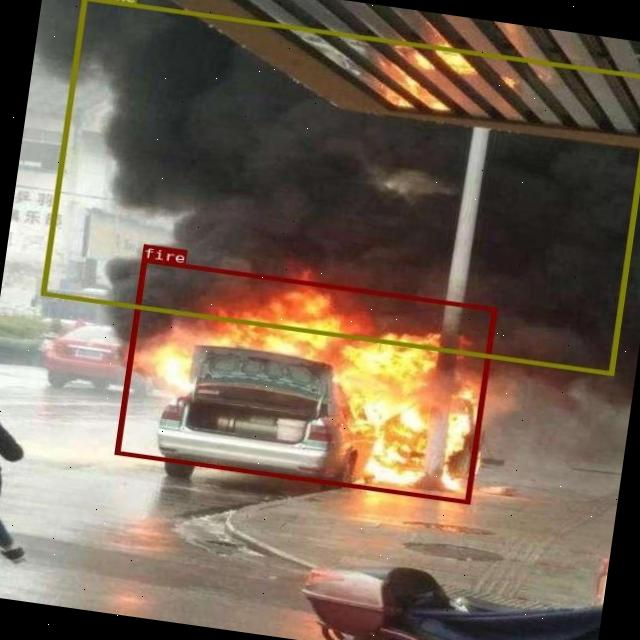fire: (114, 257, 496, 503)
smoke: (40, 0, 640, 375)
